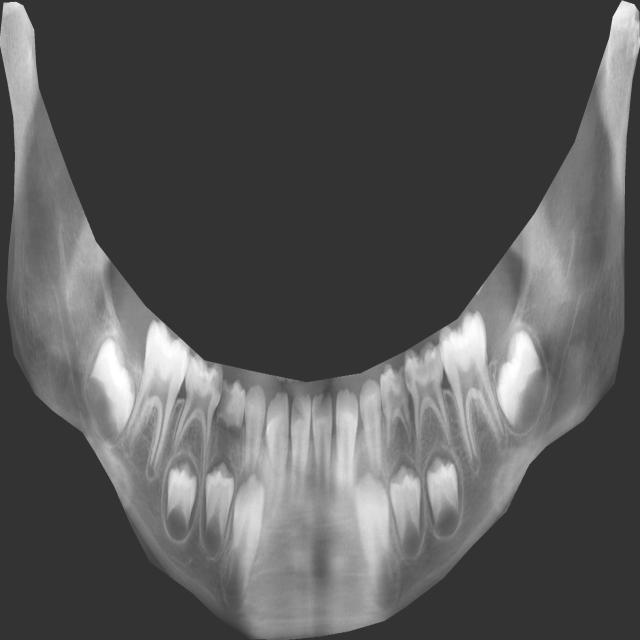mandibula: (0, 0, 640, 640)
